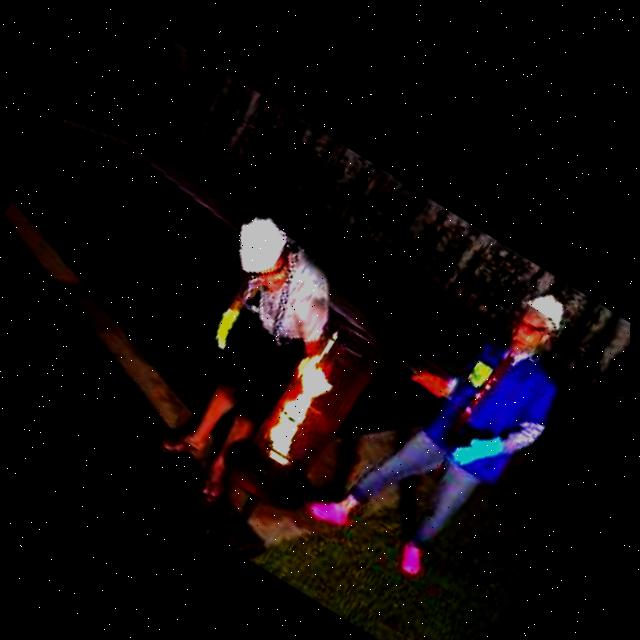Fire: (257, 333, 362, 465)
